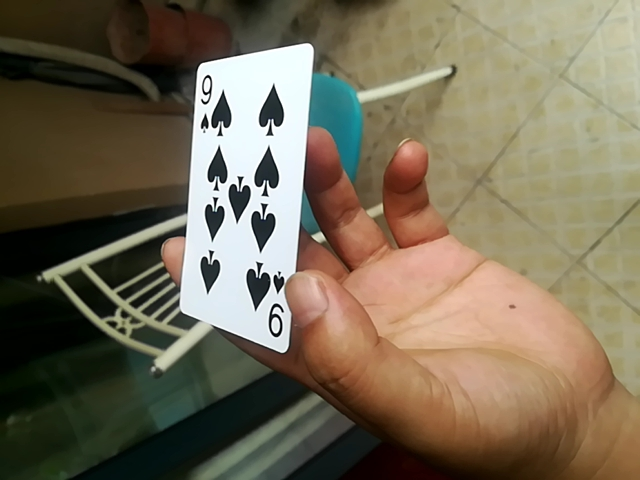ht 9: (174, 43, 309, 363)
